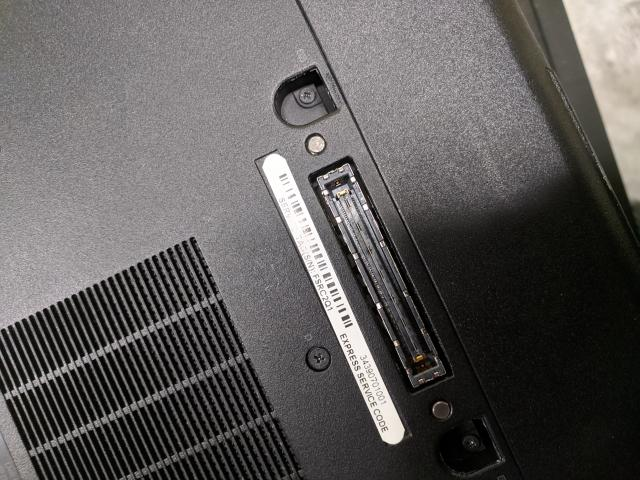CRS: (305, 343, 333, 372), (298, 84, 320, 106), (464, 433, 481, 456)
